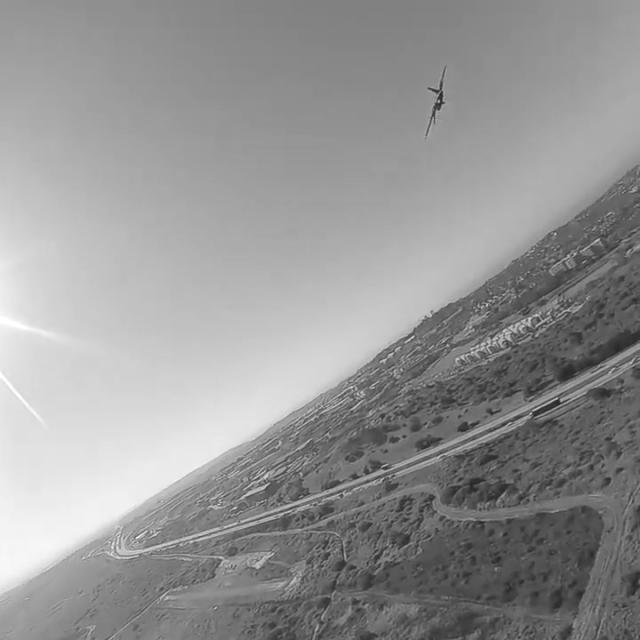iha: (410, 28, 460, 50)
